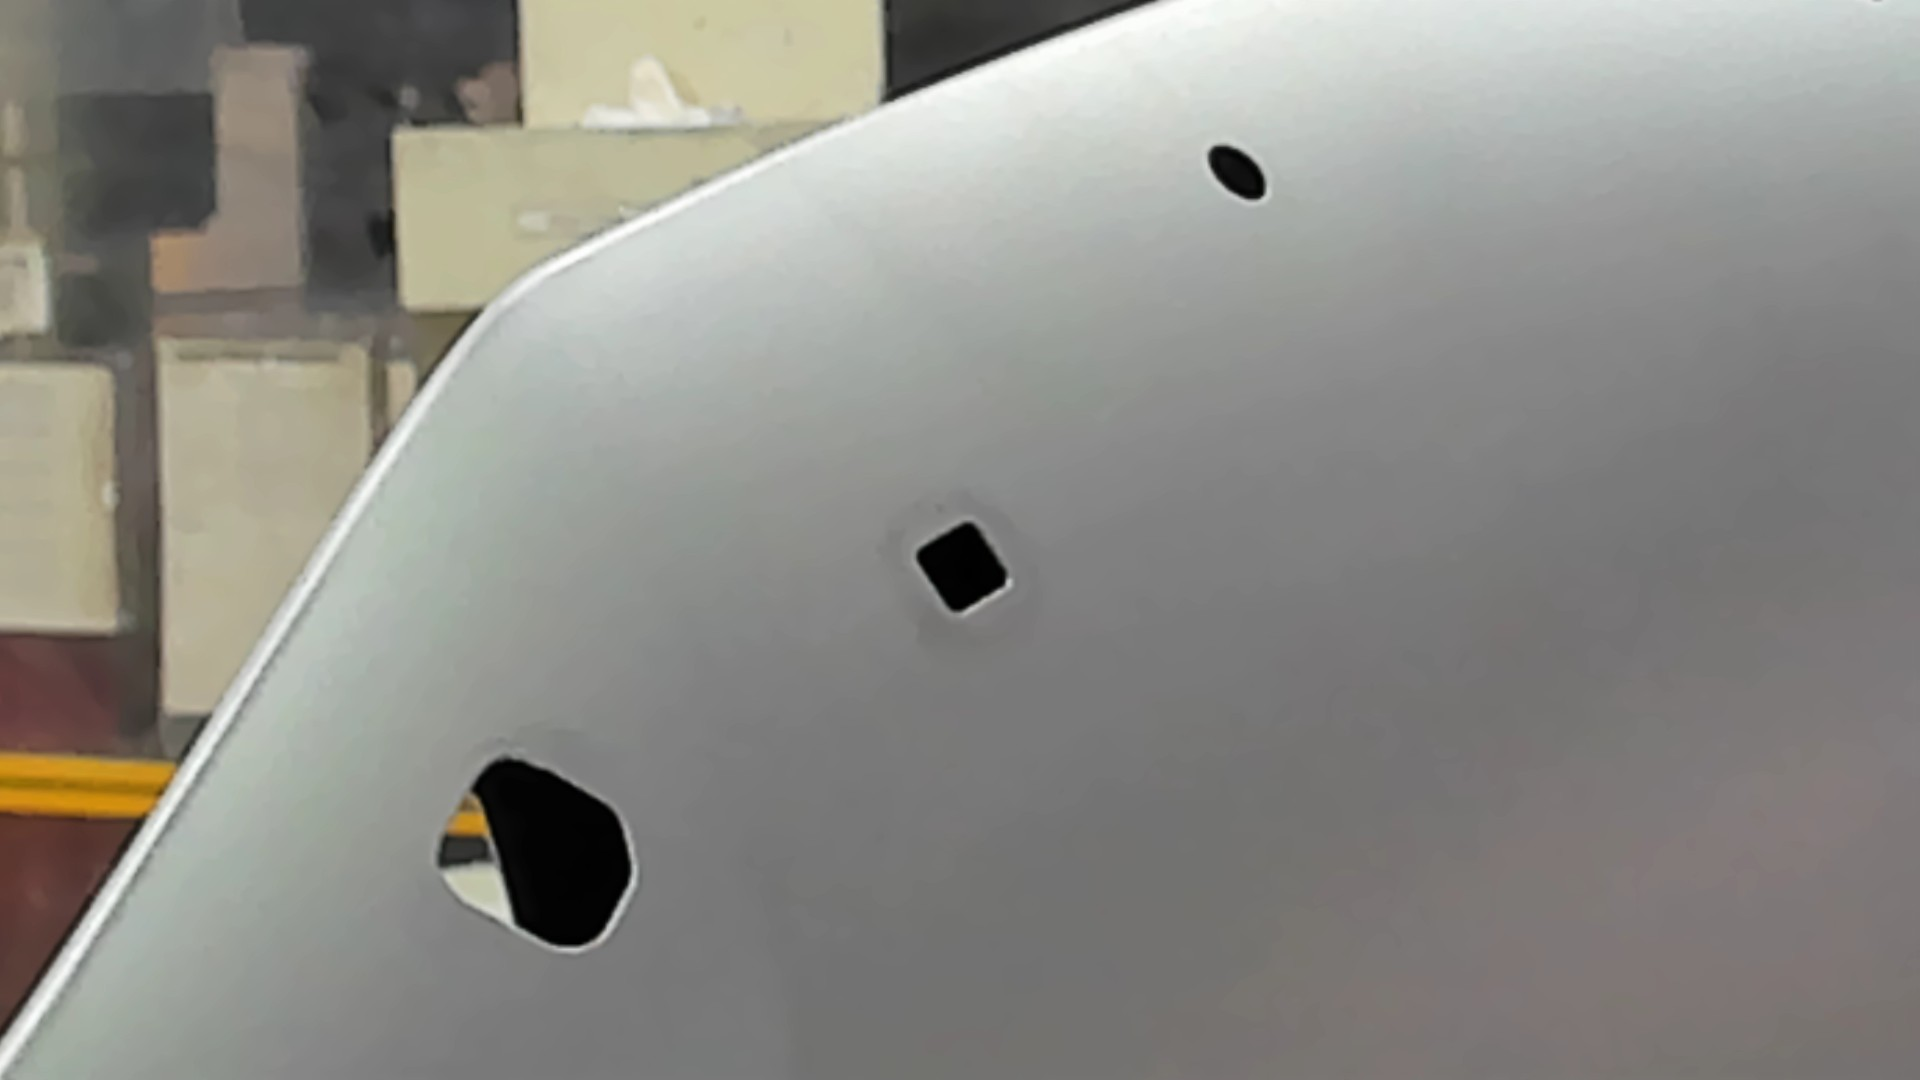chico: (1200, 140, 1273, 204)
grande: (429, 752, 640, 959)
mediano: (910, 522, 1011, 618)
